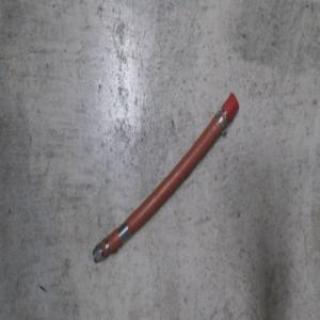Hosetrack_idkeyframe: (92, 95, 240, 268)
